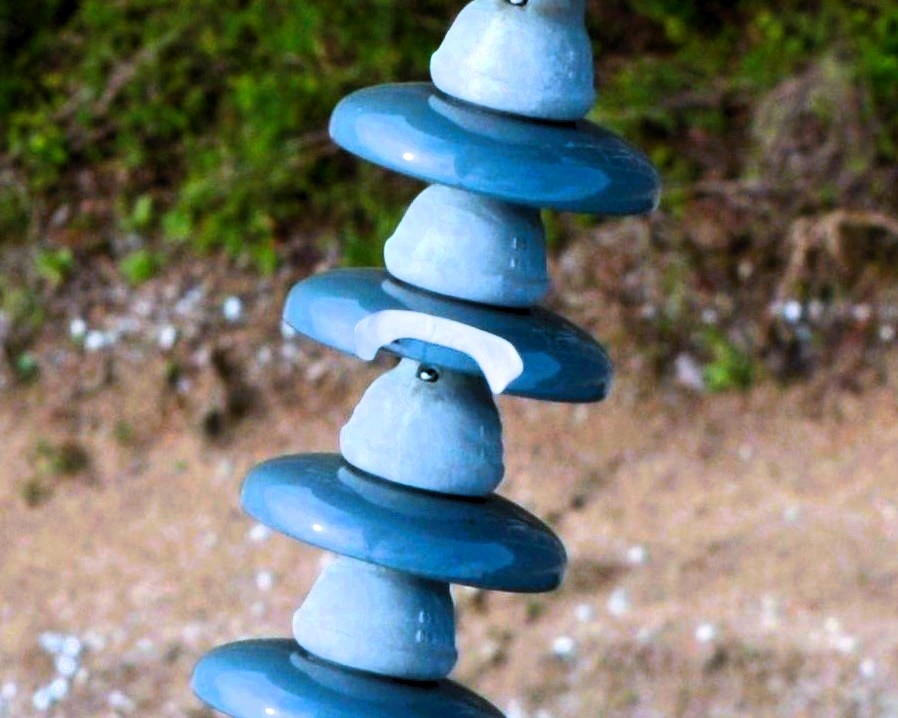insulator breakage: (262, 264, 618, 408)
